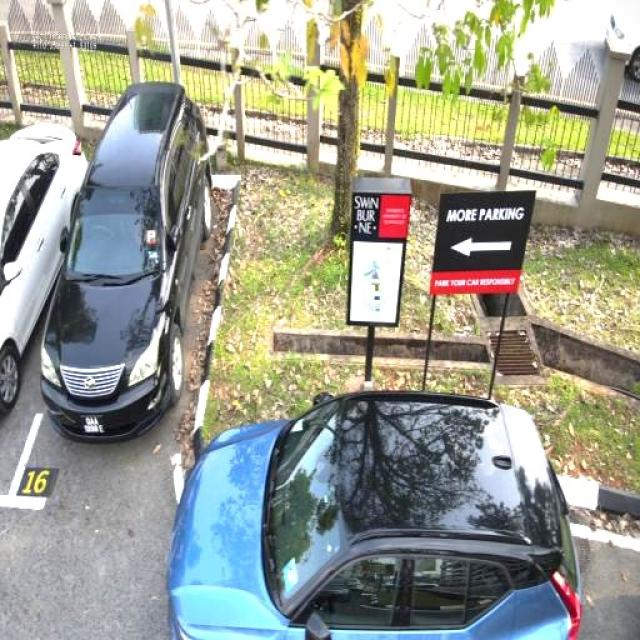Legalparking: (168, 391, 579, 639), (41, 84, 215, 440), (0, 124, 86, 414)
